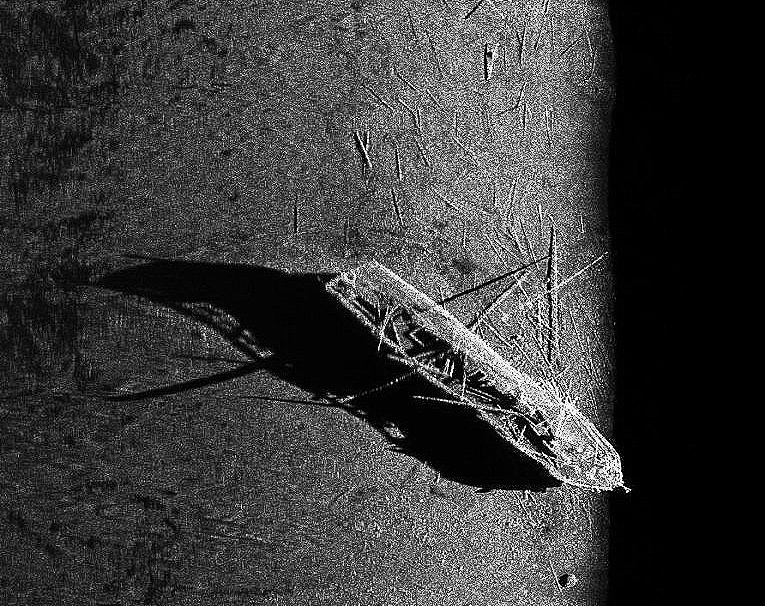ship: (320, 255, 633, 496)
